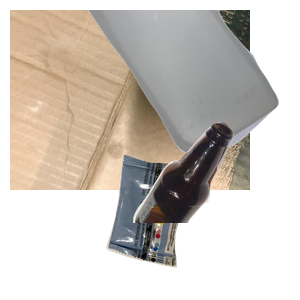cardboard: (10, 10, 250, 190)
glass: (130, 120, 300, 300)
plastic: (84, 10, 300, 157)
trash: (104, 152, 280, 300)
